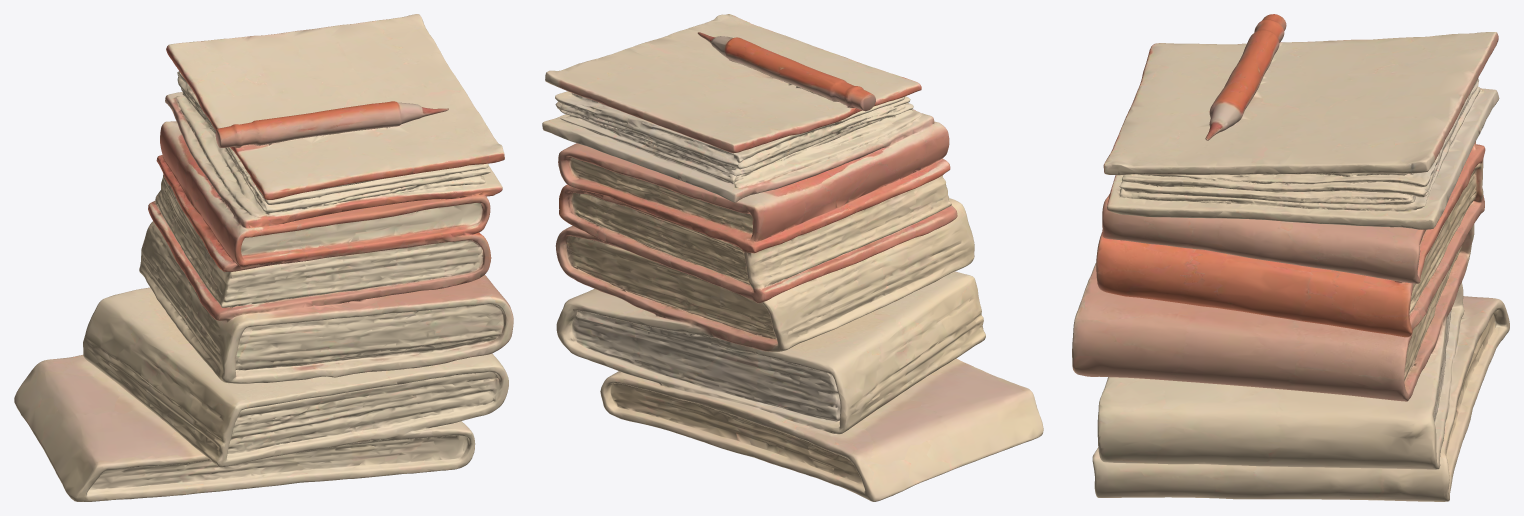
The picture shows the model from 3 angles, left to right: view 1: azimuth 30°, elevation 25°; view 2: azimuth 150°, elevation 25°; view 3: azimuth 270°, elevation 25°; orthographic projection. The views are drawn at different scales.
Size of the model in its own units: 1.9 by 1.42 by 1.43.
Materials: 1 (1 with a texture image).
